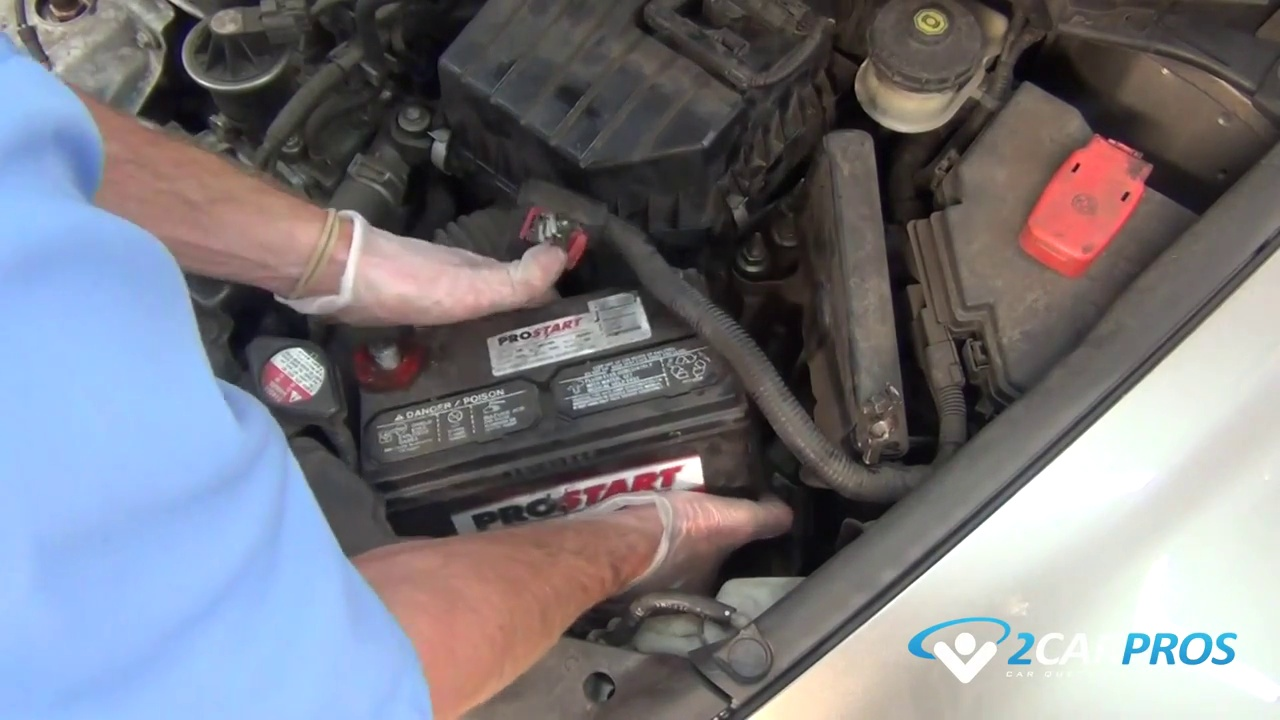battery: (336, 296, 745, 471)
pos_disconnected: (337, 307, 449, 410)
pos_touched: (306, 243, 473, 430)
